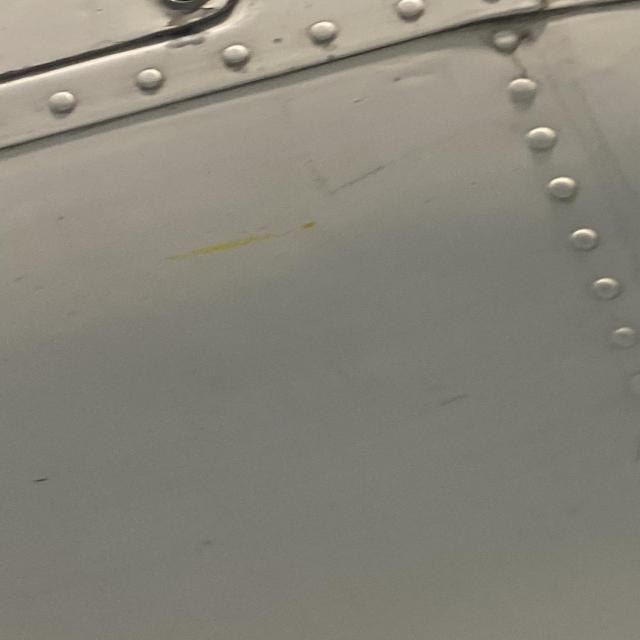Dent: (377, 52, 465, 94)
